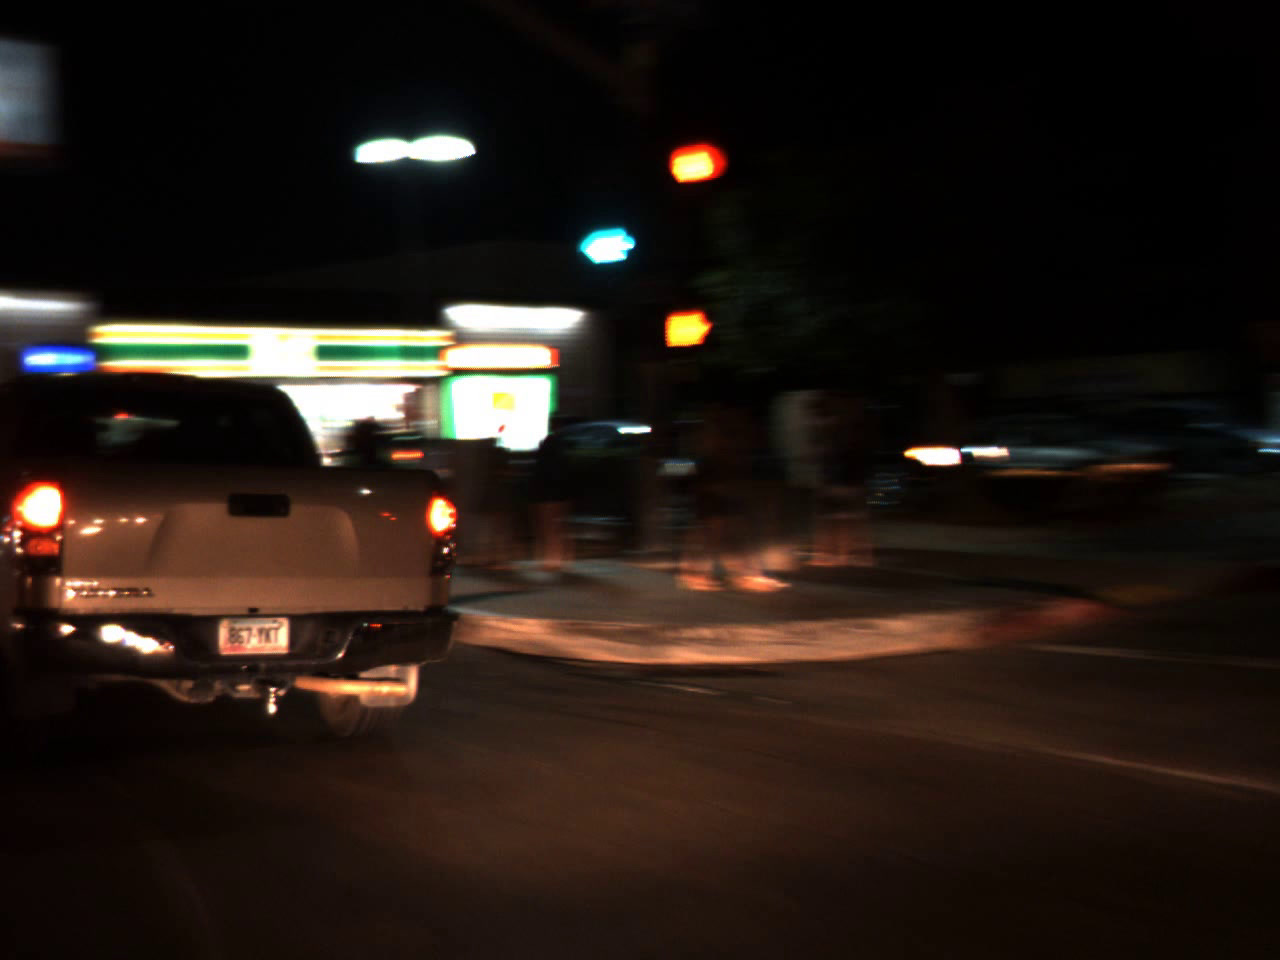go: (566, 202, 645, 271)
